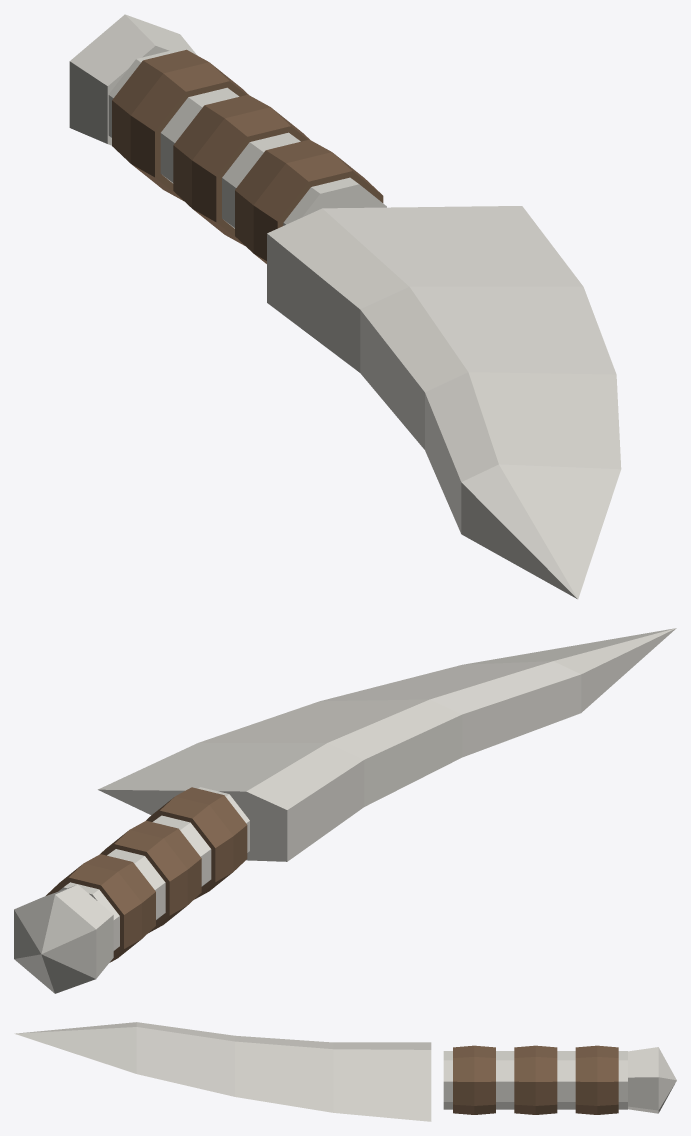
Rendered from fangtooth.glb.
The picture shows the model from 3 angles, top to bottom: view 1: azimuth 30°, elevation 25°; view 2: azimuth 150°, elevation 25°; view 3: azimuth 270°, elevation 25°; orthographic projection. The views are drawn at different scales.
Parts seen in each view (by area): view 1: fangtooth; view 2: fangtooth; view 3: fangtooth.
Part boxes in pixels (x1,y1,x2,y2): fangtooth: (69, 14, 621, 599); fangtooth: (14, 628, 676, 993); fangtooth: (14, 1022, 676, 1121).
Size of the model in its own units: 0.17 by 0.06 by 0.54.
